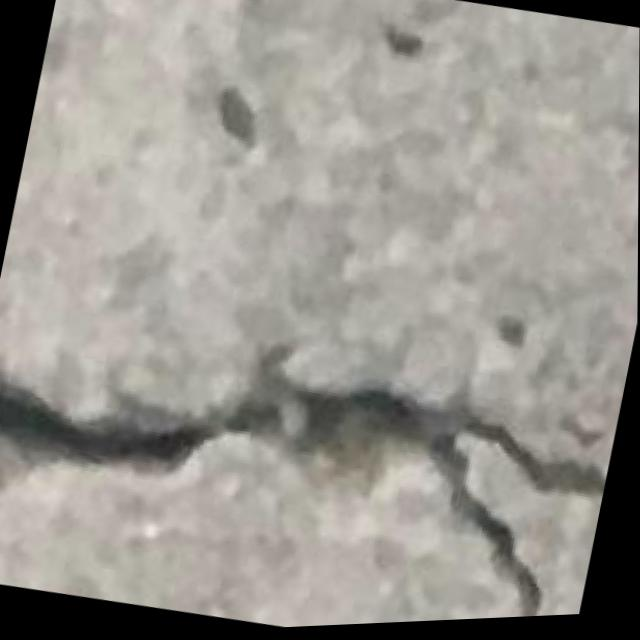Crack: (0, 297, 618, 640)
